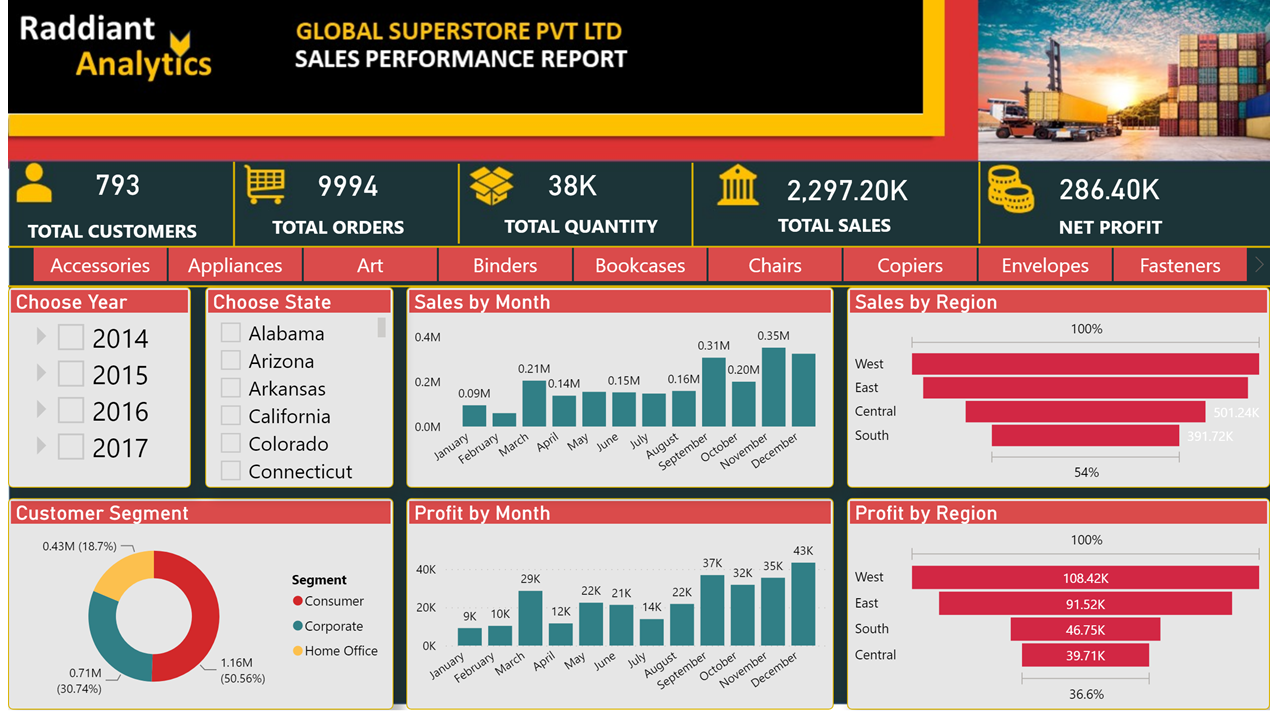

The page's visual inventory and layout, read from the dashboard file:
{"tool":"powerbi","page":{"name":"SALES REPORT","canvas":[1280,720],"ordinal":0},"visuals":[{"type":"card","fields":{"Values":["CountNonNull(Orders$FilterDatabase.Customer Name)"]},"box":[297.7,168.5,93.2,37.1],"z":0},{"type":"card","fields":{"Values":["Sum(Orders$FilterDatabase.Profit)"]},"box":[1044.6,165.1,143.8,49.4],"z":1000},{"type":"card","fields":{"Values":["Sum(Orders$FilterDatabase.Sales)"]},"box":[777.3,166.2,148.3,49.4],"z":2000},{"type":"card","fields":{"Values":["Sum(Orders$FilterDatabase.Quantity)"]},"box":[505.5,160.6,134.8,49.4],"z":3000},{"type":"card","fields":{"Values":["Count(Orders$FilterDatabase.Customer Name)"]},"box":[53.9,160.6,114.6,48.3],"z":4000},{"type":"textbox","box":[14.6,215.7,240.4,41.6],"z":5000},{"type":"textbox","box":[262.8,212.3,186.5,34.8],"z":6000},{"type":"shape","box":[0,243.7,1280.5,12.4],"z":7000},{"type":"shape","box":[204.4,164,50.5,85.4],"z":8000},{"type":"shape","box":[432.4,166.2,50.5,80.9],"z":9000},{"type":"shape","box":[669.5,165.1,50.5,85.4],"z":10000},{"type":"shape","box":[960.4,164,50.5,83.1],"z":11000},{"type":"textbox","box":[483,211.2,196.6,40.4],"z":12000},{"type":"textbox","box":[776.2,210,150.5,40.4],"z":13000},{"type":"textbox","box":[1034.5,212.3,197.7,35.9],"z":14000},{"type":"slicer","title":"CHOOSE STATE","fields":{"Values":["Orders$FilterDatabase.Sub-Category"]},"box":[0,243.7,1280.5,43.8],"z":15000},{"type":"donutChart","title":"Customer Segment","fields":{"Y":["Sum(Orders$FilterDatabase.Sales)"],"Series":["Orders$FilterDatabase.Segment"],"Category":["Orders$FilterDatabase.Segment","Orders$FilterDatabase.Customer Name"]},"box":[0,505.5,390.9,214.5],"z":16000},{"type":"clusteredColumnChart","fields":{"Category":["Orders$FilterDatabase.Order Date.Variation.Date Hierarchy.Month"],"Y":["Sum(Orders$FilterDatabase.Profit)"]},"box":[404.4,505.5,433.6,214.5],"z":18000},{"type":"slicer","title":"Choose Year","fields":{"Values":["Orders$FilterDatabase.Order Date.Variation.Date Hierarchy.Year","Orders$FilterDatabase.Sales"]},"box":[0,290.9,185.3,203.3],"z":20000},{"type":"clusteredColumnChart","fields":{"Category":["Orders$FilterDatabase.Order Date.Variation.Date Hierarchy.Month"],"Y":["Sum(Orders$FilterDatabase.Sales)"]},"box":[404.4,290.9,433.6,203.3],"z":22000},{"type":"funnel","fields":{"Category":["Orders$FilterDatabase.Region"],"Y":["Sum(Orders$FilterDatabase.Sales)"]},"box":[851.4,290.9,429.1,203.3],"z":23000},{"type":"funnel","fields":{"Category":["Orders$FilterDatabase.Region","Orders$FilterDatabase.Category"],"Y":["Sum(Orders$FilterDatabase.Profit)"]},"box":[851.4,505.5,429.1,214.5],"z":24000},{"type":"shape","box":[0,283.1,1280.5,14.6],"z":25000},{"type":"slicer","title":"Choose State","fields":{"Values":["Orders$FilterDatabase.State"]},"box":[199.9,290.9,191,203.3],"z":25001}]}

Visuals, with their boxes in screenshot pixels (x1, y1, x2, y2), scaled from the page's 1280x720 canvas onto the 1280x720 screenshot:
card - CountNonNull(Orders$FilterDatabase.Customer Name): left=298, top=168, right=391, bottom=206
card - Sum(Orders$FilterDatabase.Profit): left=1045, top=165, right=1188, bottom=214
card - Sum(Orders$FilterDatabase.Sales): left=777, top=166, right=926, bottom=216
card - Sum(Orders$FilterDatabase.Quantity): left=506, top=161, right=640, bottom=210
card - Count(Orders$FilterDatabase.Customer Name): left=54, top=161, right=168, bottom=209
textbox: left=15, top=216, right=255, bottom=257
textbox: left=263, top=212, right=449, bottom=247
shape: left=0, top=244, right=1279, bottom=256
shape: left=204, top=164, right=255, bottom=249
shape: left=432, top=166, right=483, bottom=247
shape: left=670, top=165, right=720, bottom=250
shape: left=960, top=164, right=1011, bottom=247
textbox: left=483, top=211, right=680, bottom=252
textbox: left=776, top=210, right=927, bottom=250
textbox: left=1034, top=212, right=1232, bottom=248
"CHOOSE STATE" slicer: left=0, top=244, right=1279, bottom=288
"Customer Segment" donutChart: left=0, top=506, right=391, bottom=719
clusteredColumnChart - Orders$FilterDatabase.Order Date.Variation.Date Hierarchy.Month x Sum(Orders$FilterDatabase.Profit): left=404, top=506, right=838, bottom=719
"Choose Year" slicer: left=0, top=291, right=185, bottom=494
clusteredColumnChart - Orders$FilterDatabase.Order Date.Variation.Date Hierarchy.Month x Sum(Orders$FilterDatabase.Sales): left=404, top=291, right=838, bottom=494
funnel - Orders$FilterDatabase.Region x Sum(Orders$FilterDatabase.Sales): left=851, top=291, right=1279, bottom=494
funnel - Orders$FilterDatabase.Region x Orders$FilterDatabase.Category: left=851, top=506, right=1279, bottom=719
shape: left=0, top=283, right=1279, bottom=298
"Choose State" slicer: left=200, top=291, right=391, bottom=494
